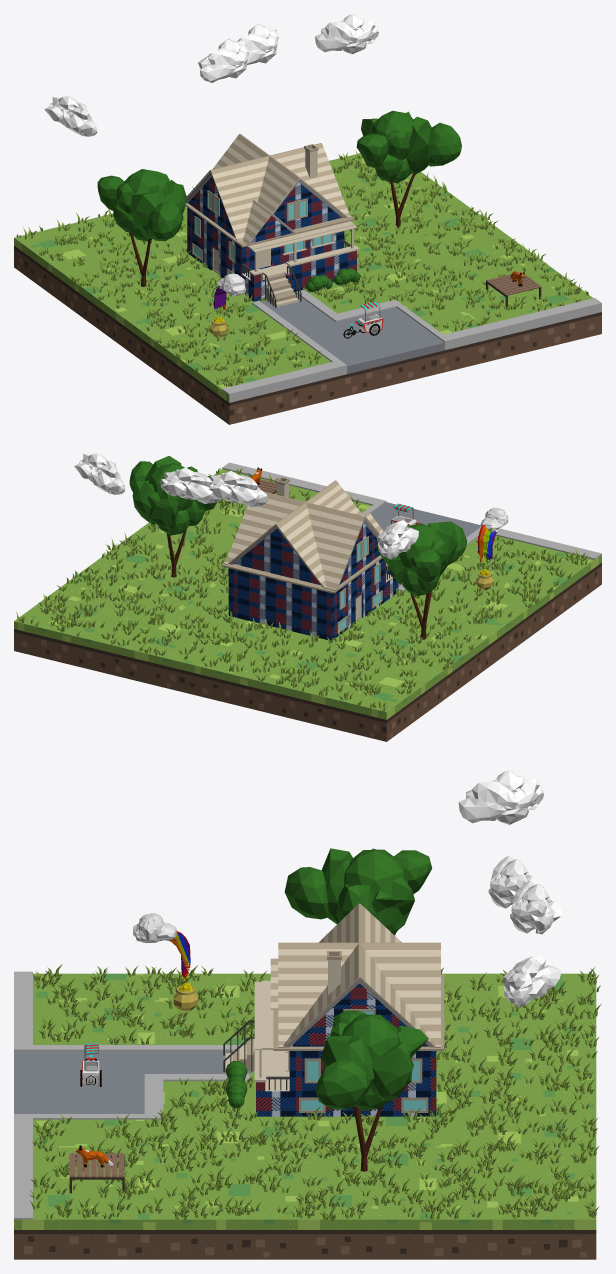
The picture shows the model from 3 angles, top to bottom: view 1: azimuth 30°, elevation 25°; view 2: azimuth 150°, elevation 25°; view 3: azimuth 270°, elevation 25°; orthographic projection. The views are drawn at different scales.
Parts seen in each view (by area): view 1: Cube.006, Cube.171, Circle.012_Grass_0.192, Cube.007, tree, tree.001, OBJRANDOM_RAINBOW, Cube.009, VEHICLES_SNOWBAL_BIKE; view 2: Cube.006, Cube.171, Circle.012_Grass_0.192, Cube.007, tree.001, tree, OBJRANDOM_RAINBOW; view 3: Cube.006, Circle.012_Grass_0.192, Cube.171, tree, Cube.007, tree.001, OBJRANDOM_RAINBOW, Cube.009, VEHICLES_SNOWBAL_BIKE.
Part boxes in pixels (<box>): Cube.006: <box>14,153,601,424</box>; Cube.171: <box>185,134,359,307</box>; Circle.012_Grass_0.192: <box>16,150,588,386</box>; Cube.007: <box>44,14,378,136</box>; tree: <box>356,110,461,228</box>; tree.001: <box>97,169,186,286</box>; OBJRANDOM_RAINBOW: <box>209,273,246,337</box>; Cube.009: <box>486,272,541,306</box>; VEHICLES_SNOWBAL_BIKE: <box>343,301,383,338</box>; Cube.006: <box>14,462,601,741</box>; Cube.171: <box>221,477,398,640</box>; Circle.012_Grass_0.192: <box>16,468,588,711</box>; Cube.007: <box>74,453,418,559</box>; tree.001: <box>375,521,467,639</box>; tree: <box>129,456,216,577</box>; OBJRANDOM_RAINBOW: <box>475,507,508,590</box>; Cube.006: <box>14,971,596,1259</box>; Circle.012_Grass_0.192: <box>29,964,601,1220</box>; Cube.171: <box>223,903,444,1116</box>; tree: <box>315,1010,428,1171</box>; Cube.007: <box>458,770,561,1007</box>; tree.001: <box>284,848,432,935</box>; OBJRANDOM_RAINBOW: <box>133,913,198,1010</box>; Cube.009: <box>69,1153,124,1193</box>; VEHICLES_SNOWBAL_BIKE: <box>80,1043,102,1086</box>.
Size of the model in its own units: 4071 by 2176 by 4040.
41 materials, 4 textured.
